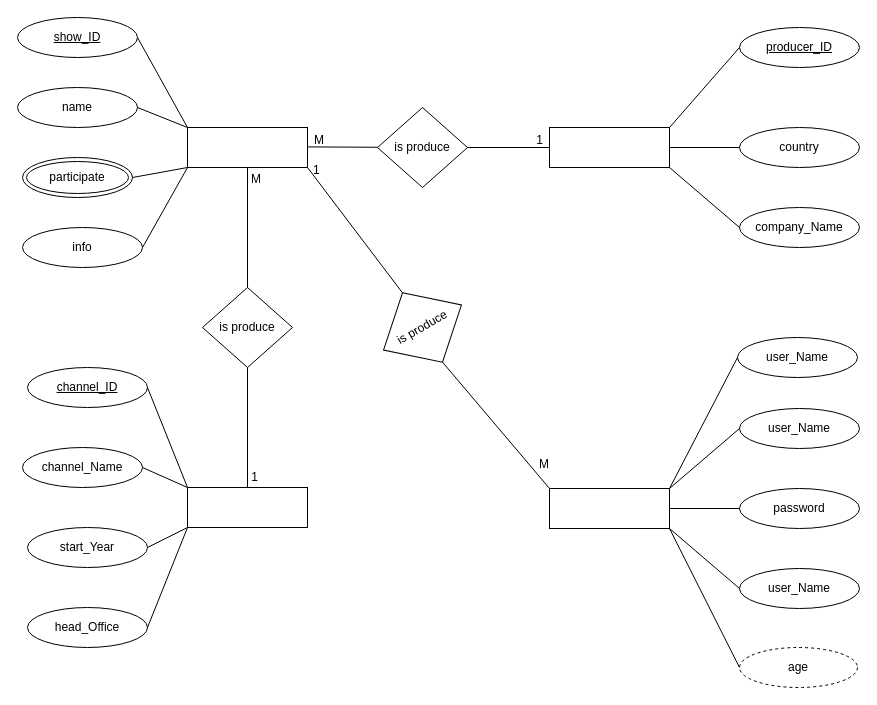
This 877x705 diagram has some shape labels left out. The shapes that lost their labels are listed below. From the top down, each one's centre as x and y in pixels, then its label:
At (247,147): "Reality_Show".
At (609,147): "Producer".
At (247,507): "TV_Channel".
At (609,508): "User".
